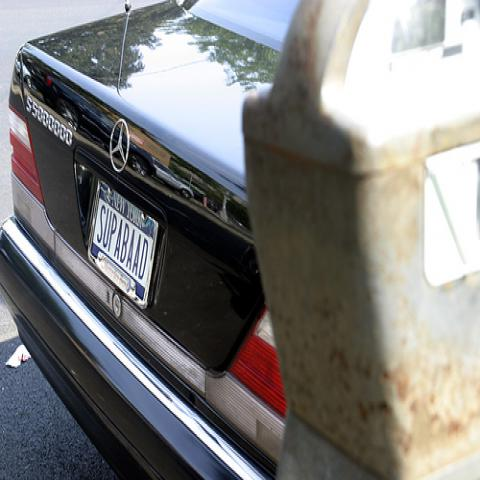car: (0, 0, 303, 479)
